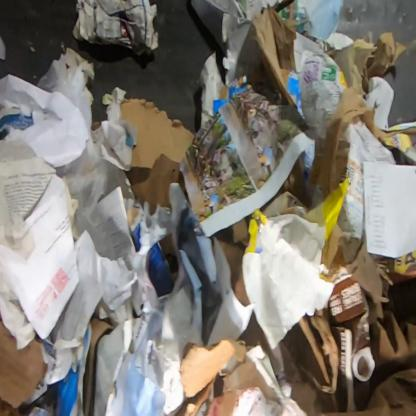cardboard: (301, 30, 415, 209), (26, 316, 117, 415), (120, 96, 195, 214), (251, 6, 307, 122), (173, 337, 247, 416), (0, 318, 50, 415), (72, 0, 159, 54), (329, 277, 363, 323)
soft_plastic: (241, 218, 335, 350), (68, 152, 116, 258), (350, 292, 376, 382)
